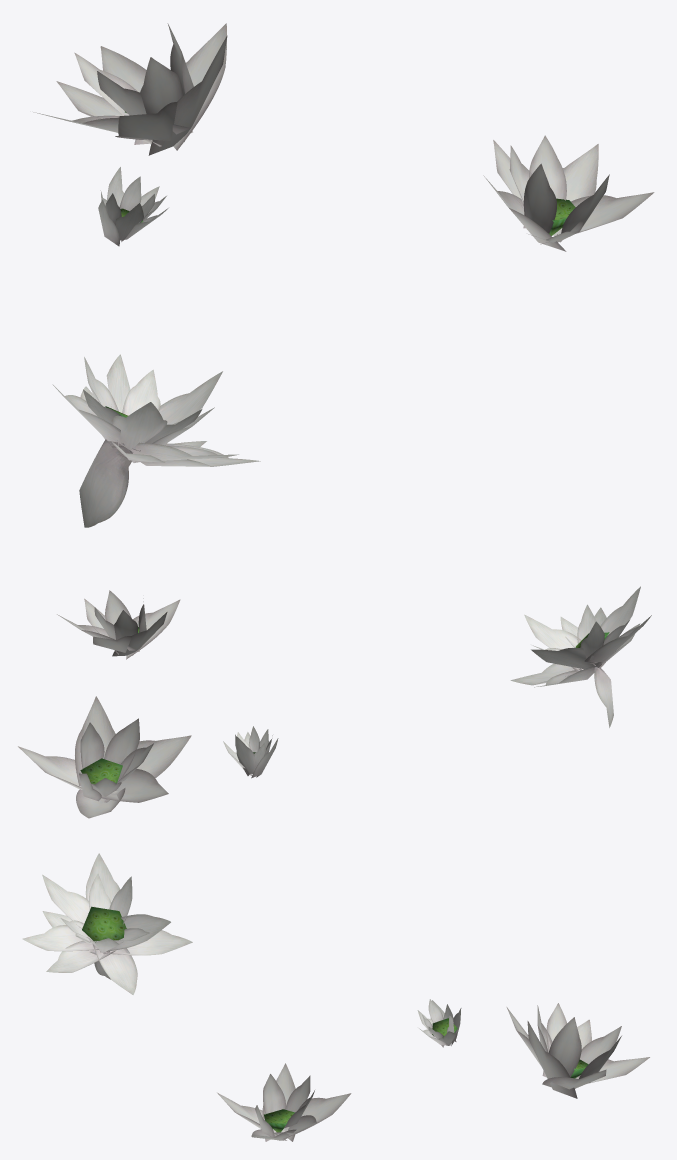
The model's file is hehua_yunmeng_09.FBX.
3 renders of one model, top to bottom at view 1: azimuth 30°, elevation 25°; view 2: azimuth 150°, elevation 25°; view 3: azimuth 270°, elevation 25°, orthographic. The views are drawn at different scales.
Parts seen in each view (by area): view 1: Mesh_0098; view 2: Mesh_0098; view 3: Mesh_0098.
Part boxes in pixels (left/top/right/bottom): Mesh_0098: left=33, top=23, right=654, bottom=527; Mesh_0098: left=18, top=586, right=651, bottom=818; Mesh_0098: left=22, top=853, right=649, bottom=1141.
Bounding box in the file's own units: 266 × 65.95 × 304.
